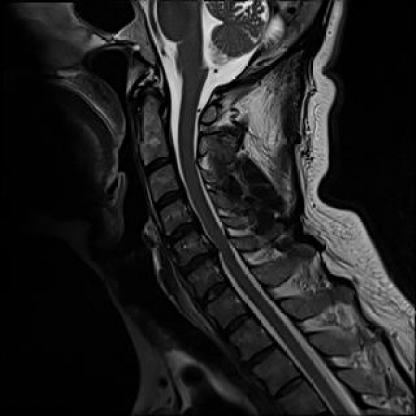Disc Bulgerotation: (161, 222, 202, 243), (175, 255, 217, 273)
Disc Protrusionrotation: (151, 189, 187, 208)
